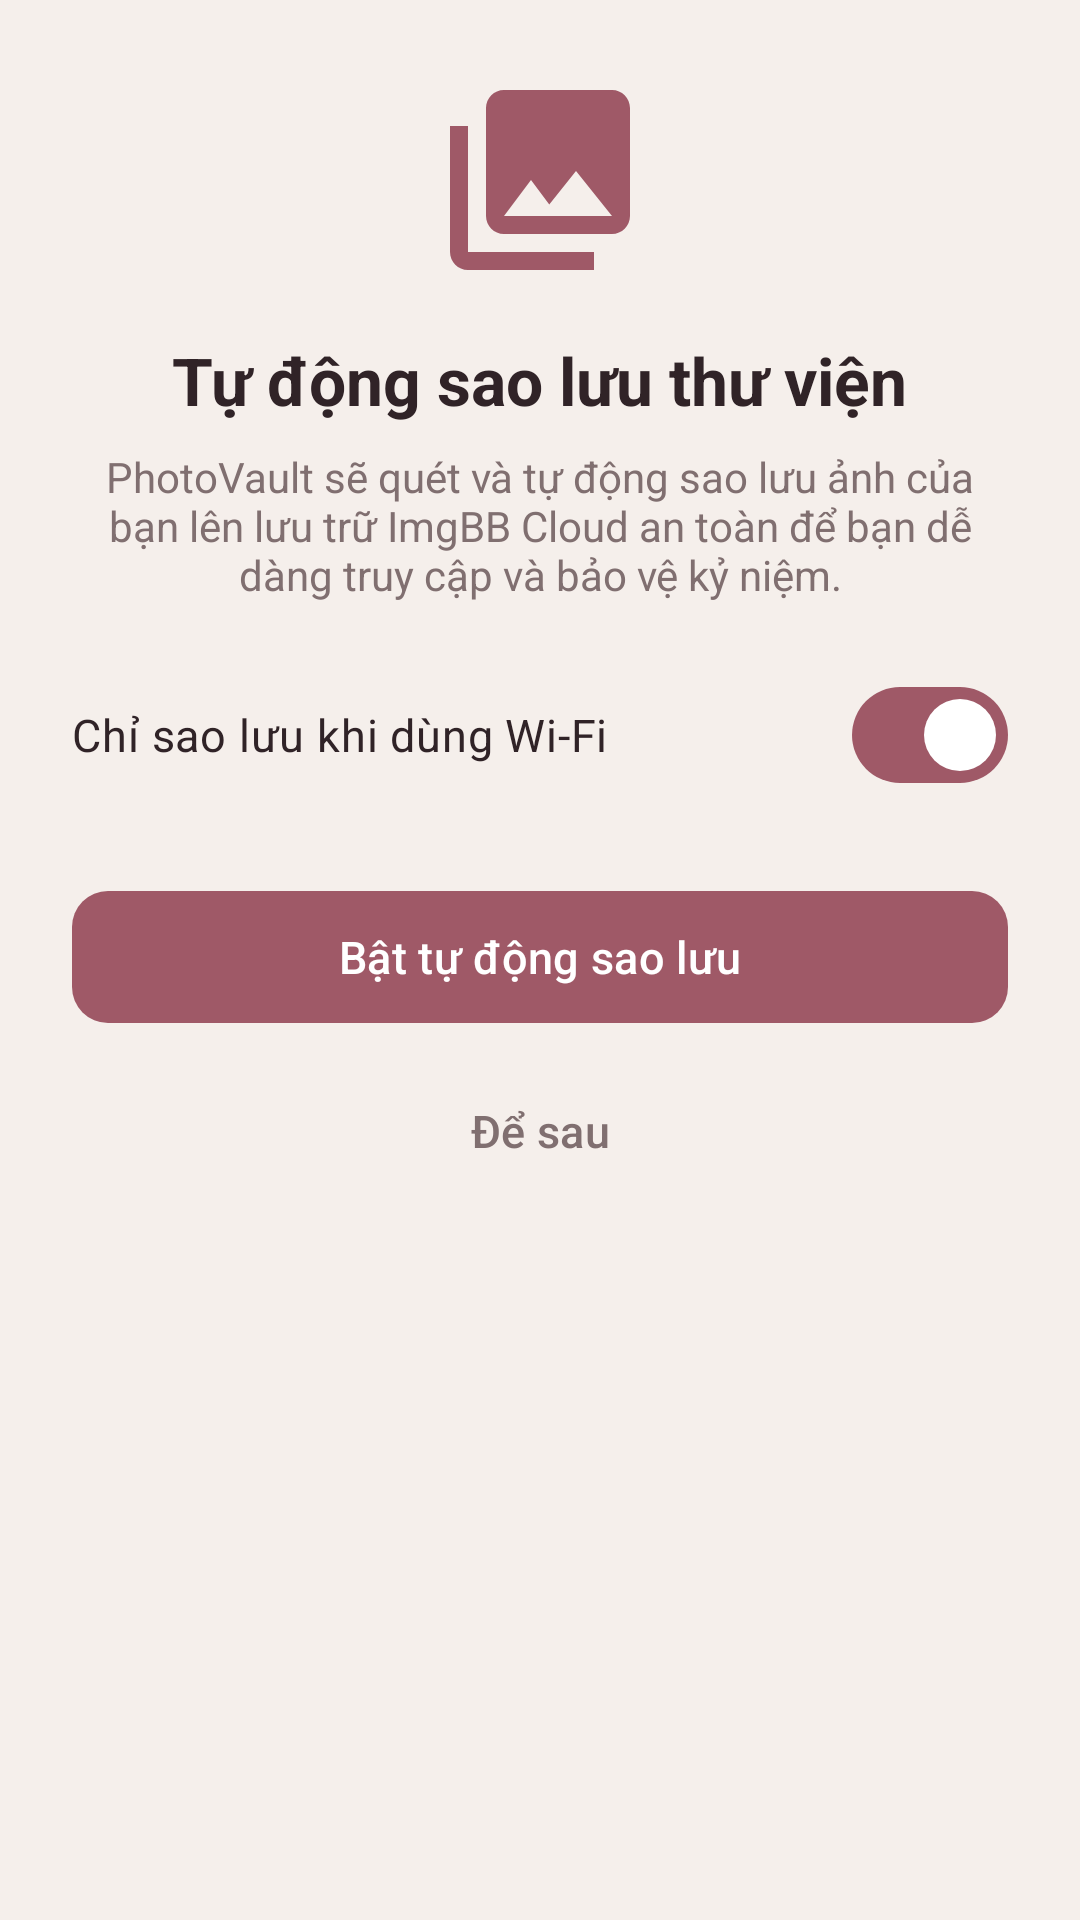

Point at icon controls on the screen. Image size 1080x1920, points as (x=x, y=y).
library: (x=540, y=180)
